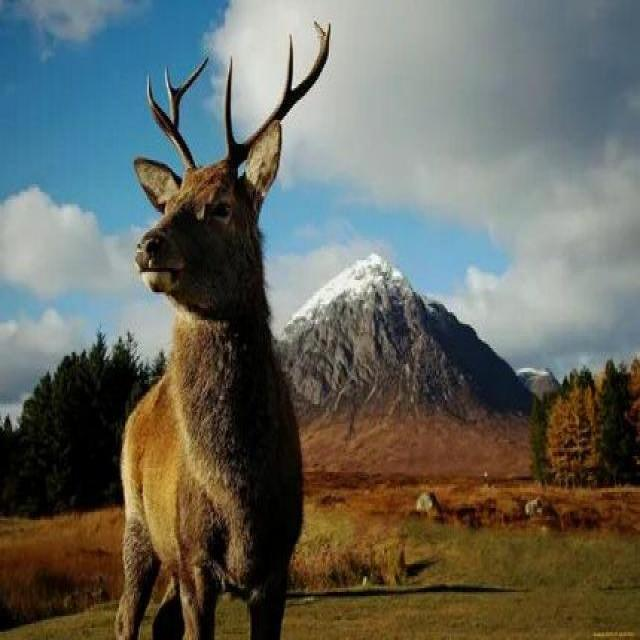deer: (38, 24, 362, 615)
